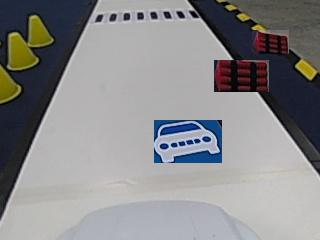crosswalk: (95, 10, 206, 22)
